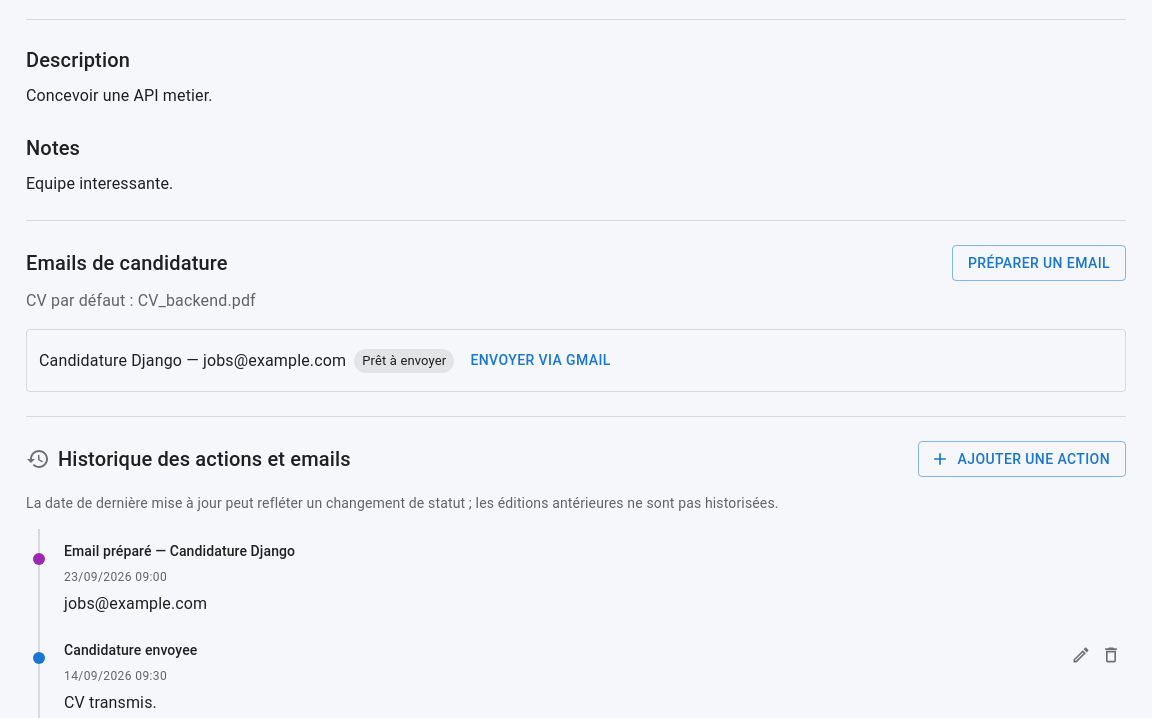
a lost send response and failed status reload block another send
(page scrolled)
Click the button with aria-label "Envoyer l’email Candidature Django": (541, 361) [462,342,619,379]
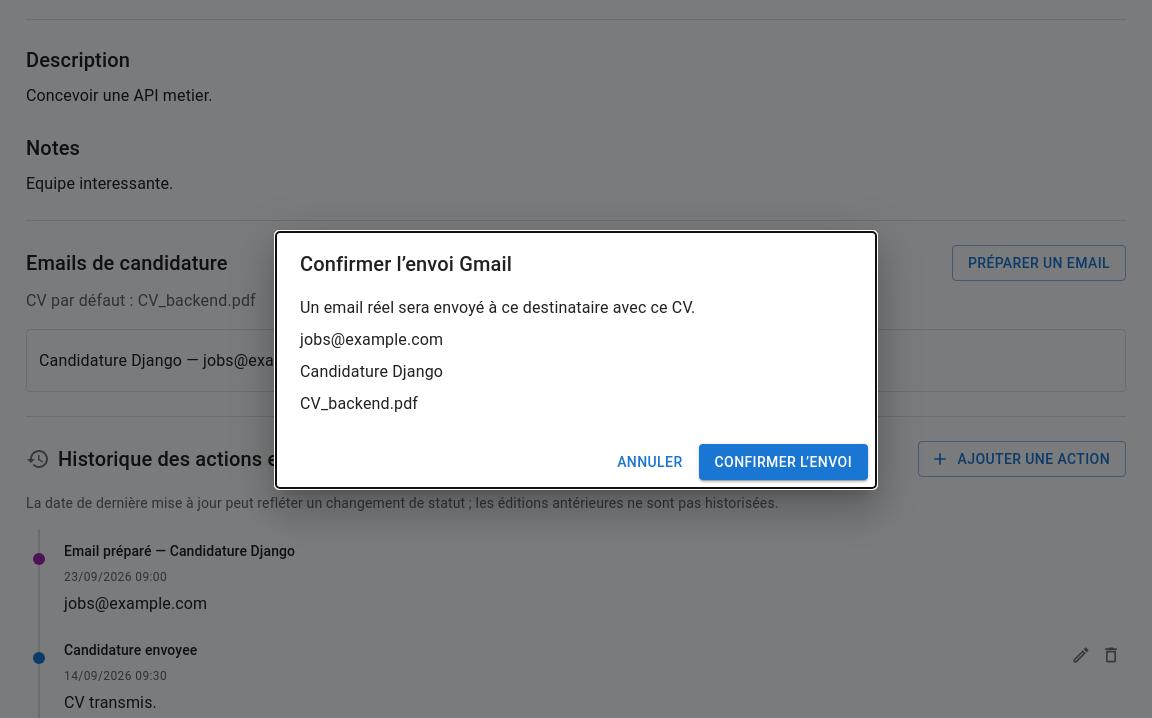
Click the button "Confirmer l’envoi": (783, 462) [698,444,868,480]
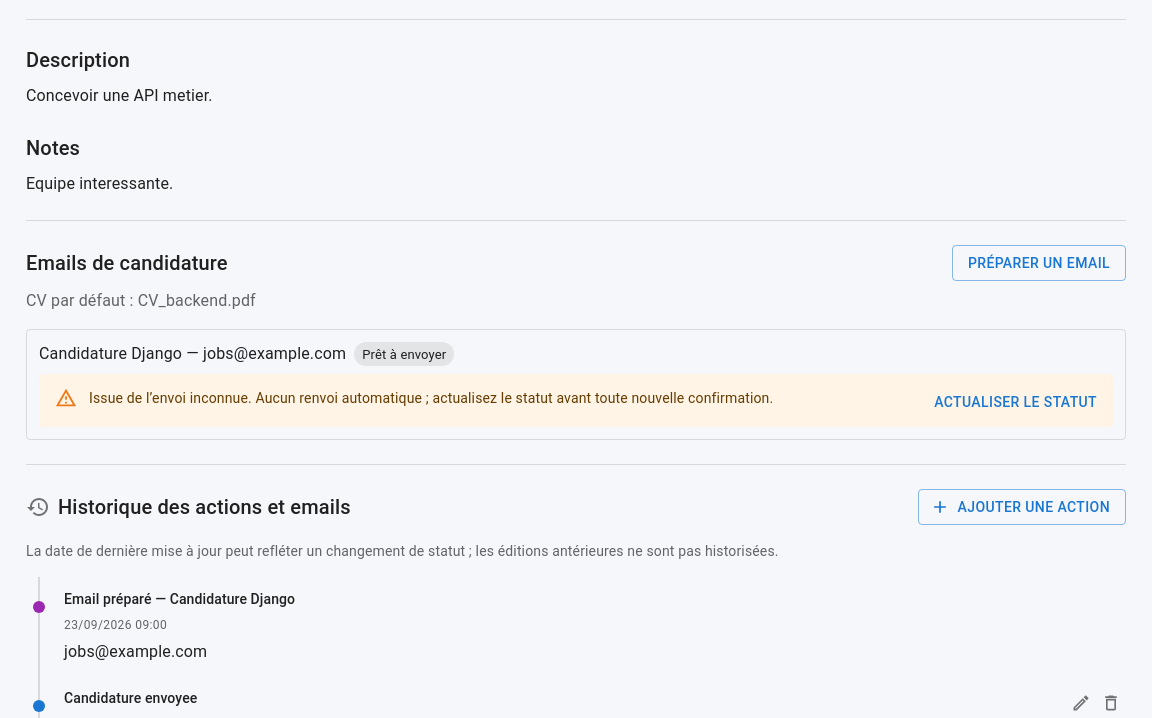
Expected: the text "Issue de l’envoi inconnue" is shown, [89,390,773,406]
Expected: the heading "Confirmer l’envoi Gmail" is gone
Click the button "Actualiser le statut": (1016, 403) [926,384,1105,421]
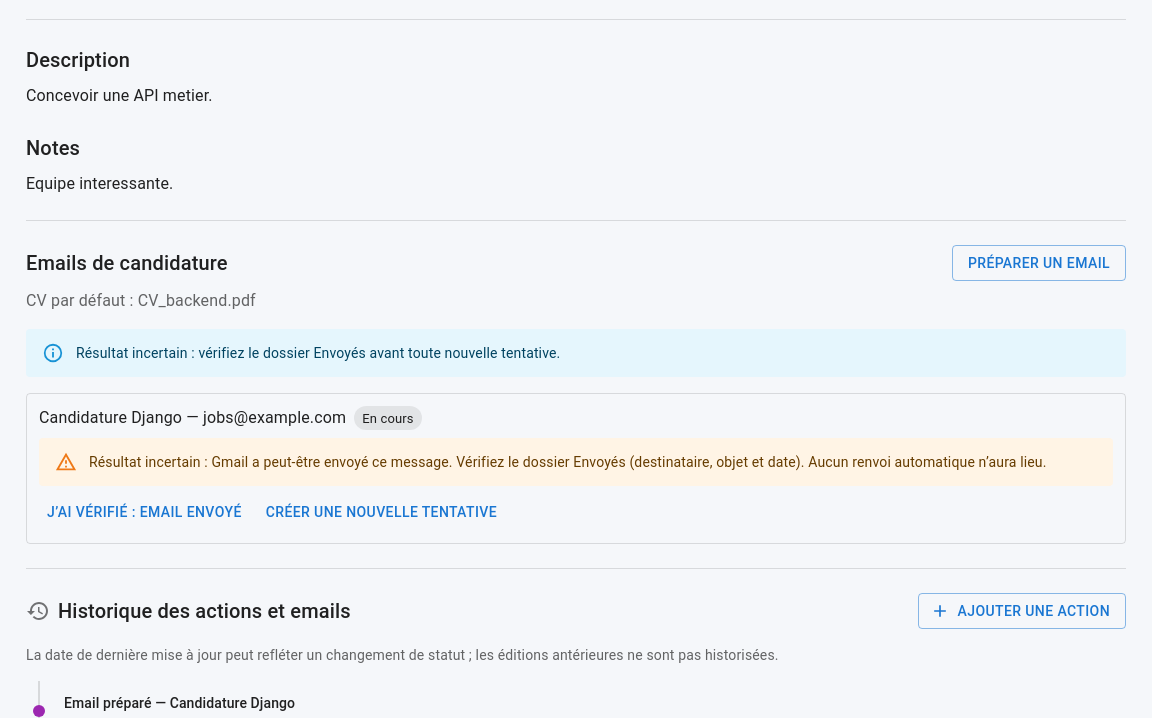
Expected: the text "Résultat incertain : Gmail a peut-être envoyé ce message" is shown, [89,454,1047,470]
